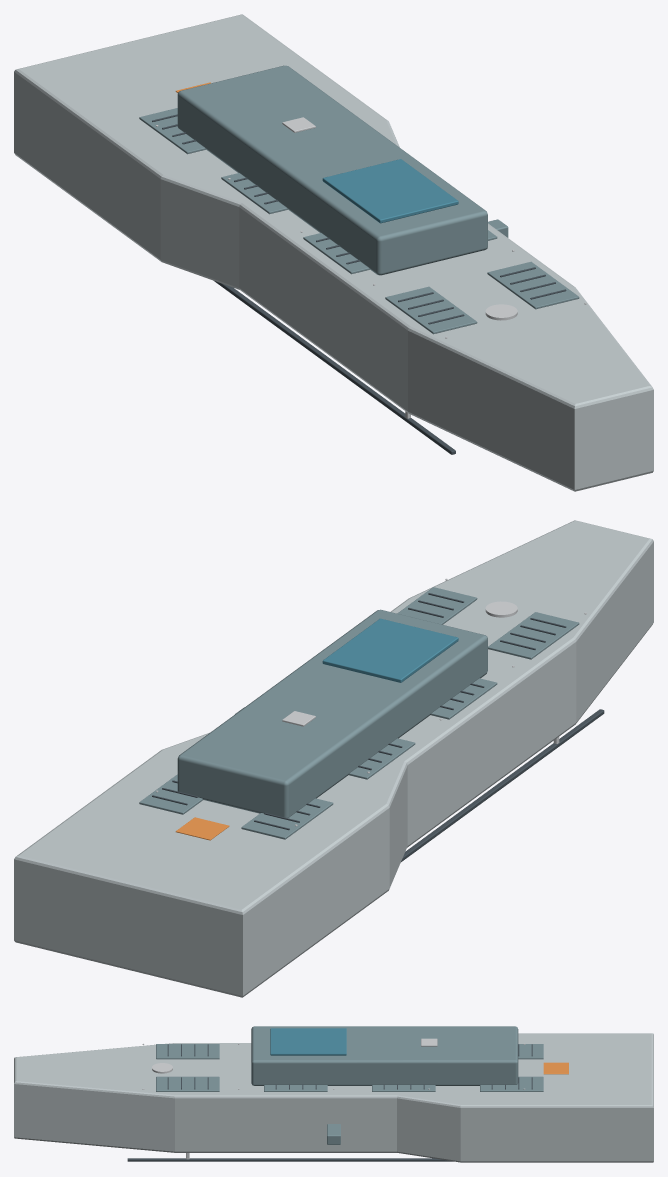
3 views of the same model, one above another, from view 1: azimuth 30°, elevation 25°; view 2: azimuth 150°, elevation 25°; view 3: azimuth 270°, elevation 25° (orthographic). The views are drawn at different scales.
Parts seen in each view (by area): view 1: battleship-core; view 2: battleship-core; view 3: battleship-core.
Boxes of the visible parts, x1,y1,x2,y2 form: battleship-core: (14, 14, 653, 491); battleship-core: (14, 520, 653, 997); battleship-core: (14, 1026, 653, 1162).
Size of the model in its own units: 7.97 by 4.53 by 27.2.
